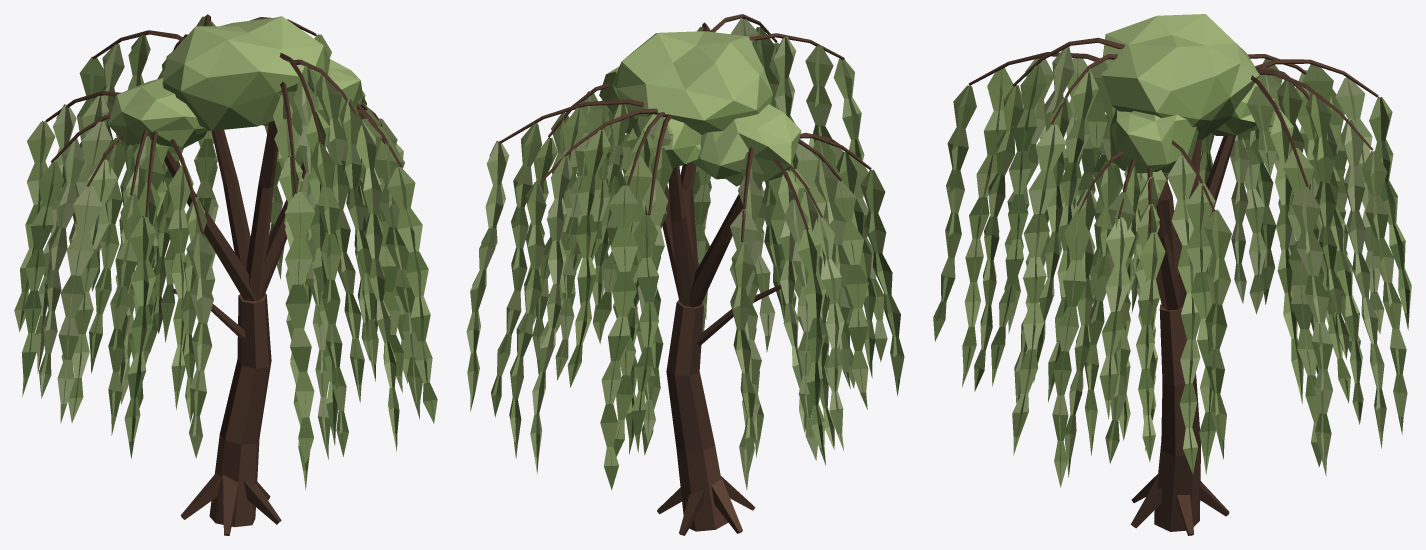
File: river_willow.glb
The picture shows the model from 3 angles, left to right: view 1: azimuth 30°, elevation 25°; view 2: azimuth 150°, elevation 25°; view 3: azimuth 270°, elevation 25°; orthographic projection. The views are drawn at different scales.
Visible parts, largest first — view 1: river_willow; view 2: river_willow; view 3: river_willow.
Part boxes in pixels (x1,y1,x2,y2): river_willow: (14,14,437,535); river_willow: (466,14,904,535); river_willow: (933,14,1411,535).
Size of the model in its own units: 7.29 by 10.11 by 8.77.
